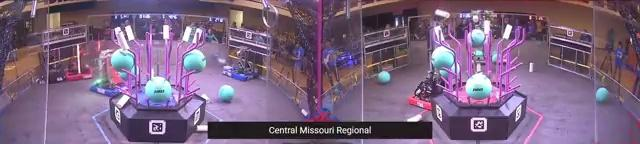reef: (429, 19, 526, 141), (110, 24, 207, 144)
robot: (407, 10, 437, 112), (89, 49, 128, 96), (222, 43, 261, 81), (66, 41, 94, 82), (43, 47, 65, 83)
